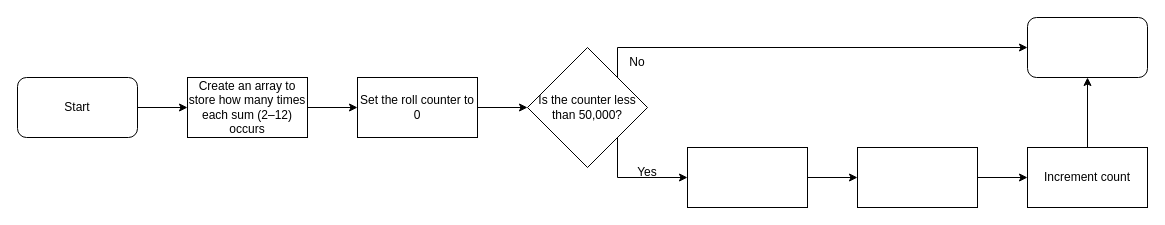
Image size: 1165x225. Some labels were removed from this diagram. Each missing label, with the centre of its shape:
"End" belongs at pixel 1087 47.
"Roll the two dice" belongs at pixel 747 177.
"Update occurrences Array" belongs at pixel 917 177.
